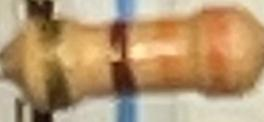Brown: (104, 21, 141, 98)
Orange: (200, 7, 237, 96), (155, 20, 185, 90)
Side-Gold: (40, 20, 76, 113)
